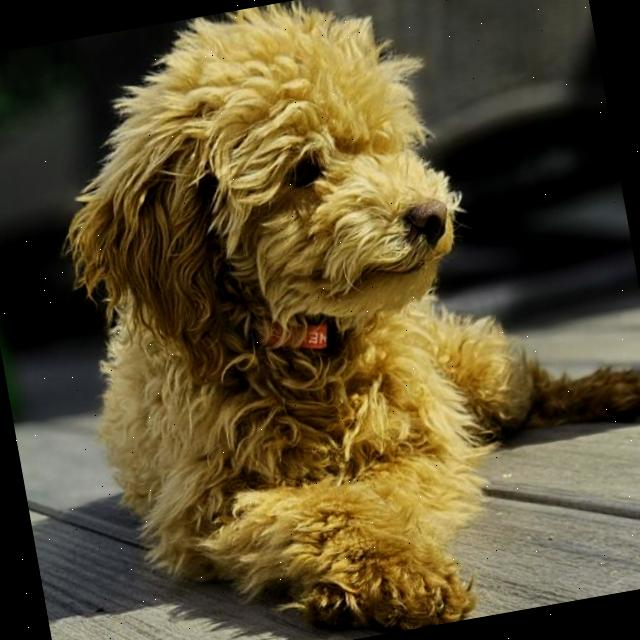Poodle_dog: (12, 0, 516, 431)
